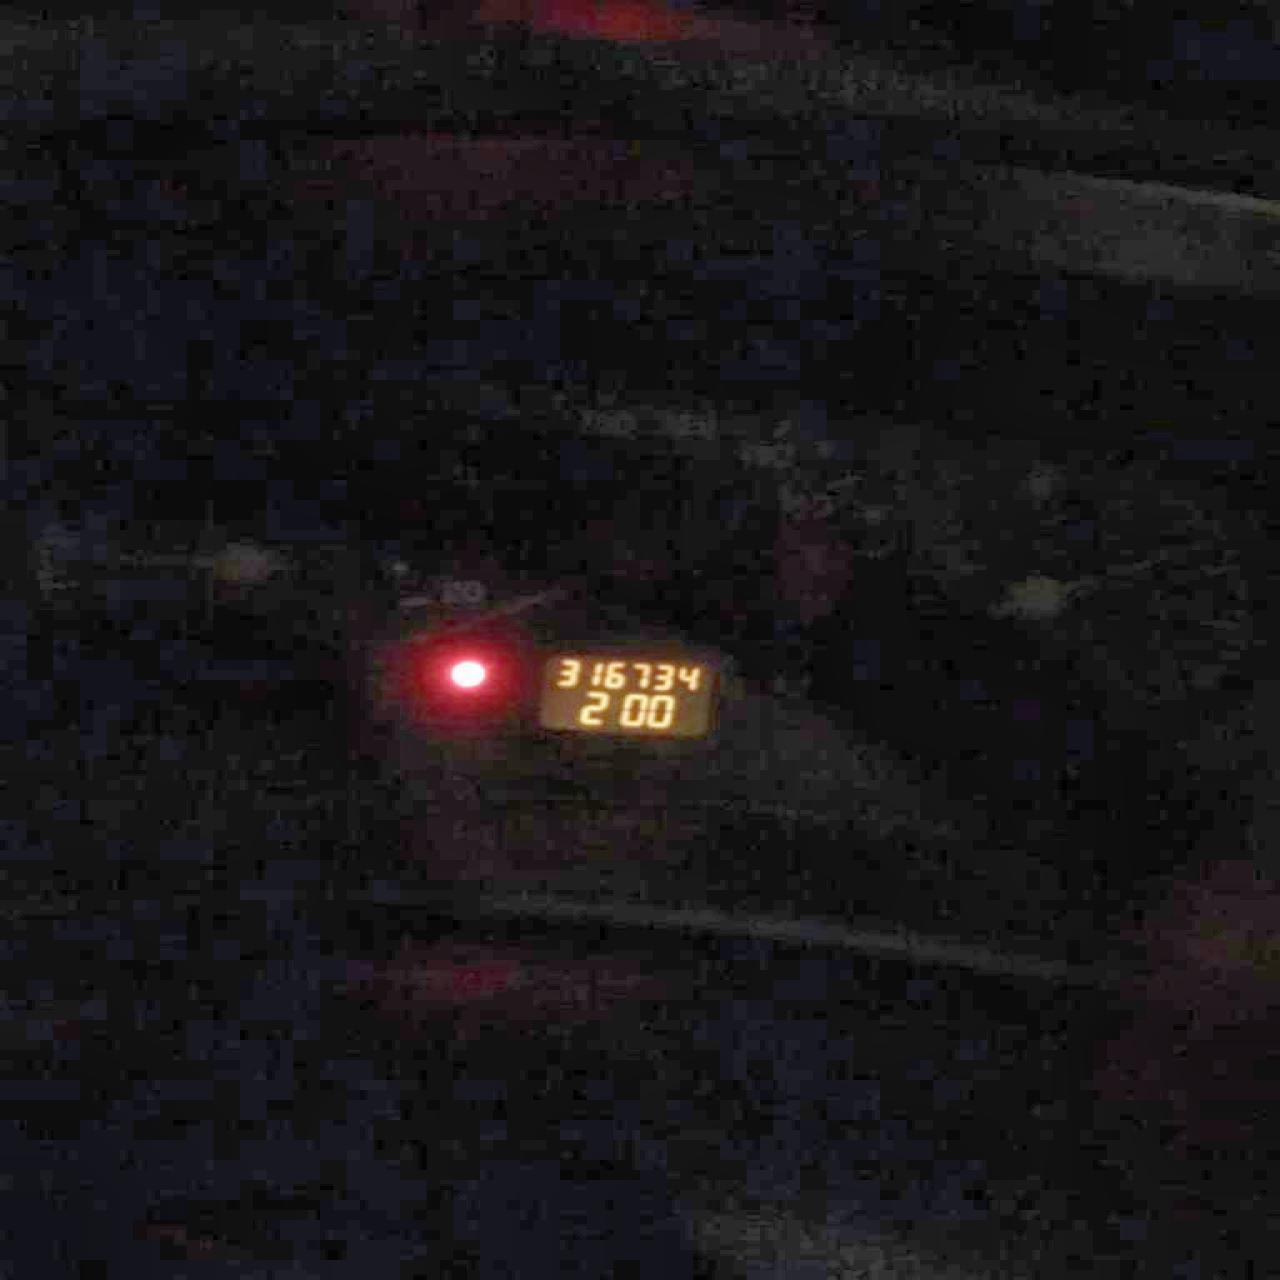0: (647, 693, 675, 728), (618, 692, 645, 727)
1: (591, 660, 601, 688)
2: (579, 689, 608, 726)
3: (558, 658, 579, 687), (654, 662, 674, 689)
4: (676, 663, 699, 692)
6: (605, 660, 625, 689)
7: (631, 660, 652, 688)
odometer: (530, 651, 716, 741)
